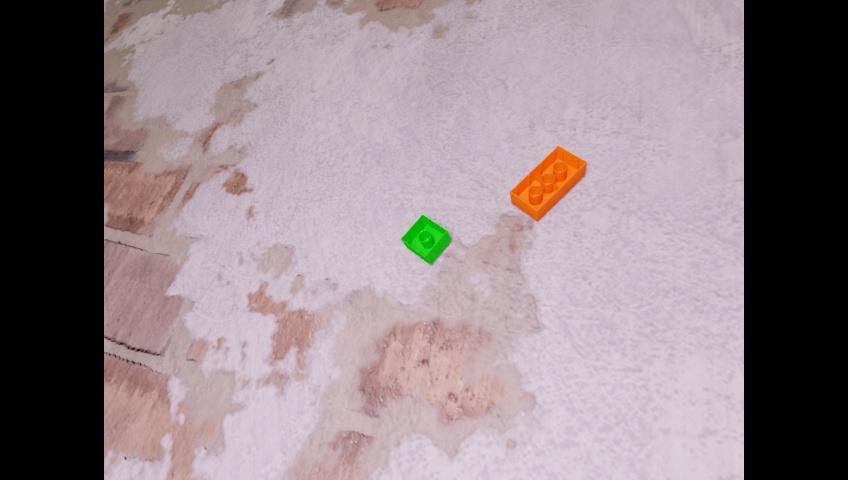2x2_green: (400, 213, 450, 264)
4x2_orange: (509, 145, 586, 220)
